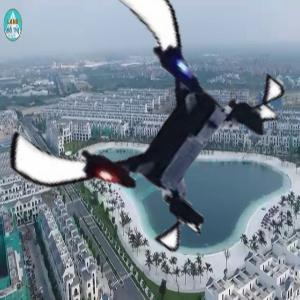drone: (25, 4, 266, 245)
